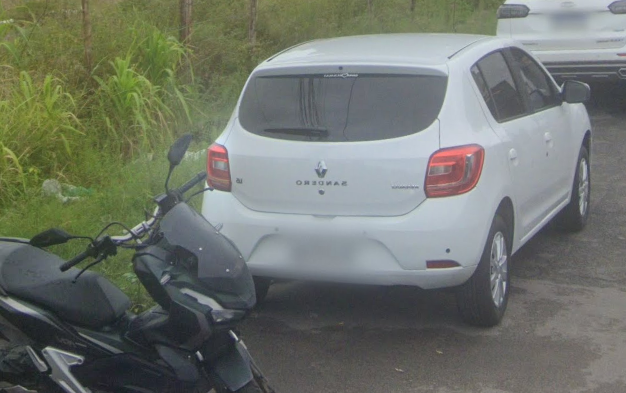car: (193, 30, 601, 330)
